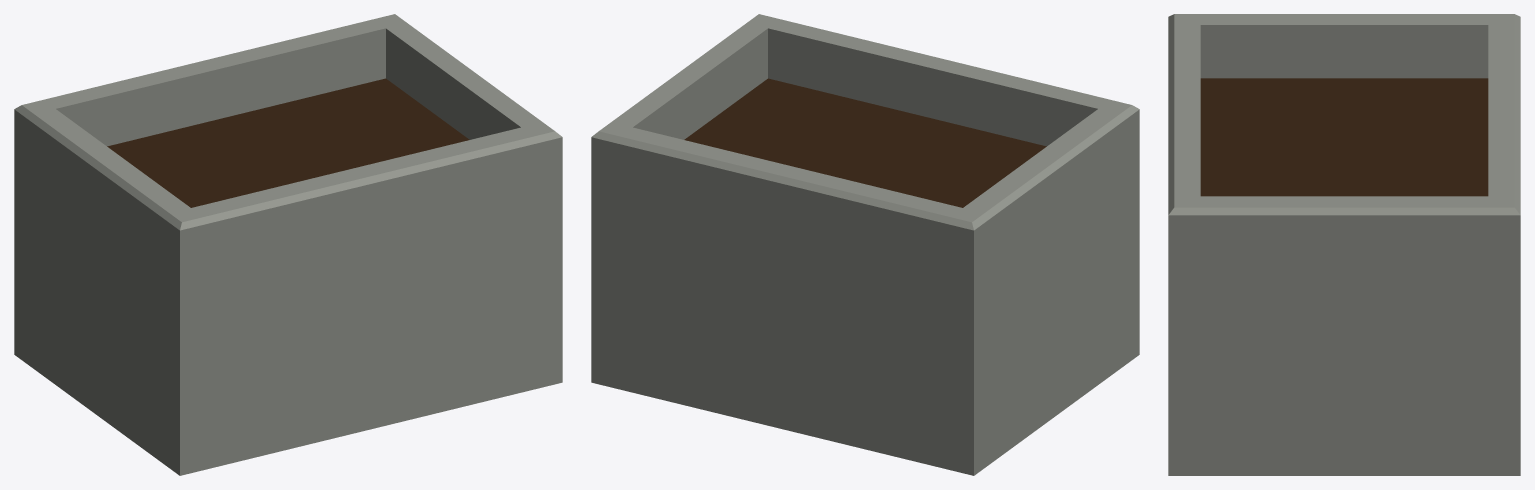
File: planter-trough.lod0.glb
3 views of the same model, side by side, from view 1: azimuth 30°, elevation 25°; view 2: azimuth 150°, elevation 25°; view 3: azimuth 270°, elevation 25° (orthographic). The views are drawn at different scales.
Visible parts, largest first — view 1: planter-trough-shell-and-soil; view 2: planter-trough-shell-and-soil; view 3: planter-trough-shell-and-soil.
Boxes of the visible parts, x1,y1,x2,y2 form: planter-trough-shell-and-soil: (14,14,562,475); planter-trough-shell-and-soil: (591,14,1139,475); planter-trough-shell-and-soil: (1168,14,1520,475).
Size of the model in its own units: 0.8 by 0.5 by 0.6.
